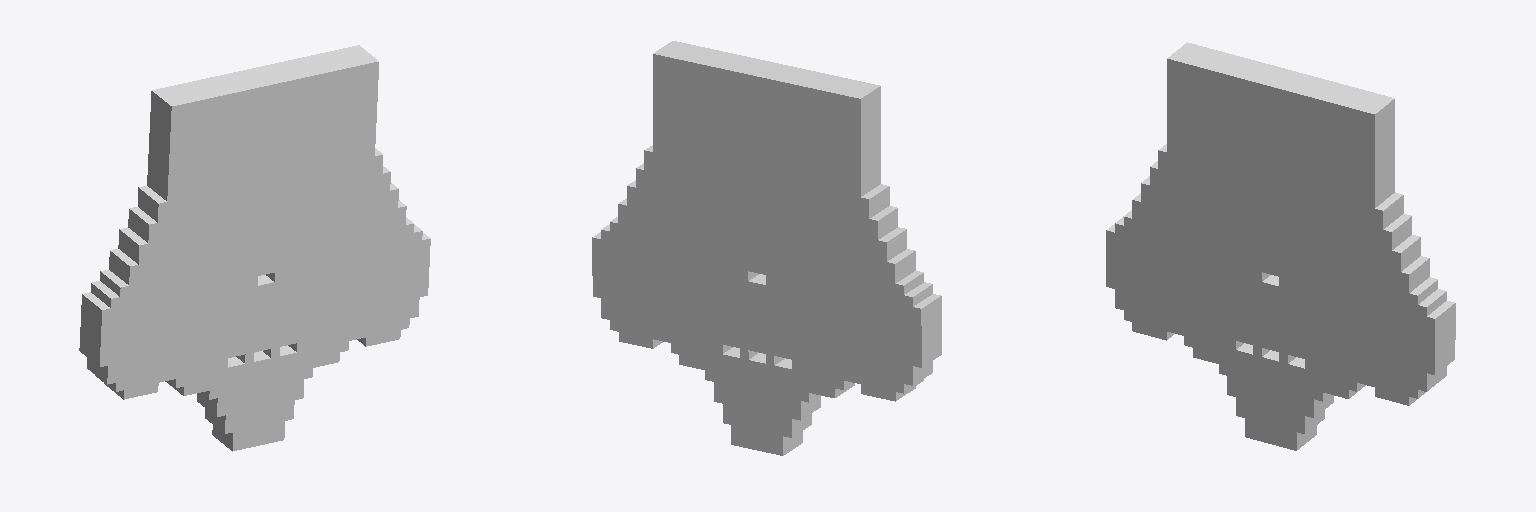
The picture shows the model from 3 angles: view 1: azimuth 30°, elevation 25°; view 2: azimuth 150°, elevation 25°; view 3: azimuth 330°, elevation 25°; orthographic projection.
Visible parts, largest first — view 1: shimizu_N3D; view 2: shimizu_N3D; view 3: shimizu_N3D.
Boxes of the visible parts, x1,y1,x2,y2 form: shimizu_N3D: [79, 45, 430, 451]; shimizu_N3D: [592, 41, 941, 455]; shimizu_N3D: [1106, 42, 1455, 450].
Bounding box in the file's own units: 15.09 × 16.2 × 2.27.